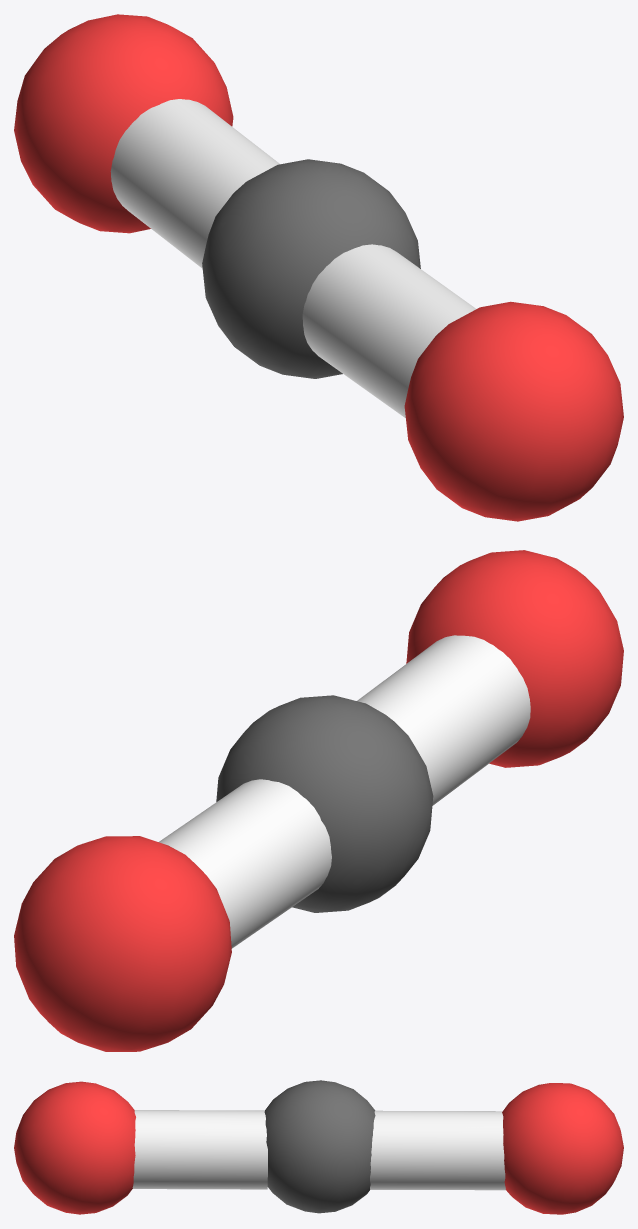
The picture shows the model from 3 angles, top to bottom: view 1: azimuth 30°, elevation 25°; view 2: azimuth 150°, elevation 25°; view 3: azimuth 270°, elevation 25°; orthographic projection. The views are drawn at different scales.
Parts seen in each view (by area): view 1: Carbon Dioxide; view 2: Carbon Dioxide; view 3: Carbon Dioxide.
Part boxes in pixels (left/top/right/bottom): Carbon Dioxide: left=14, top=14, right=623, bottom=521; Carbon Dioxide: left=14, top=550, right=623, bottom=1051; Carbon Dioxide: left=14, top=1080, right=623, bottom=1214.
Size of the model in its own units: 0.6496 by 0.6277 by 2.89.
